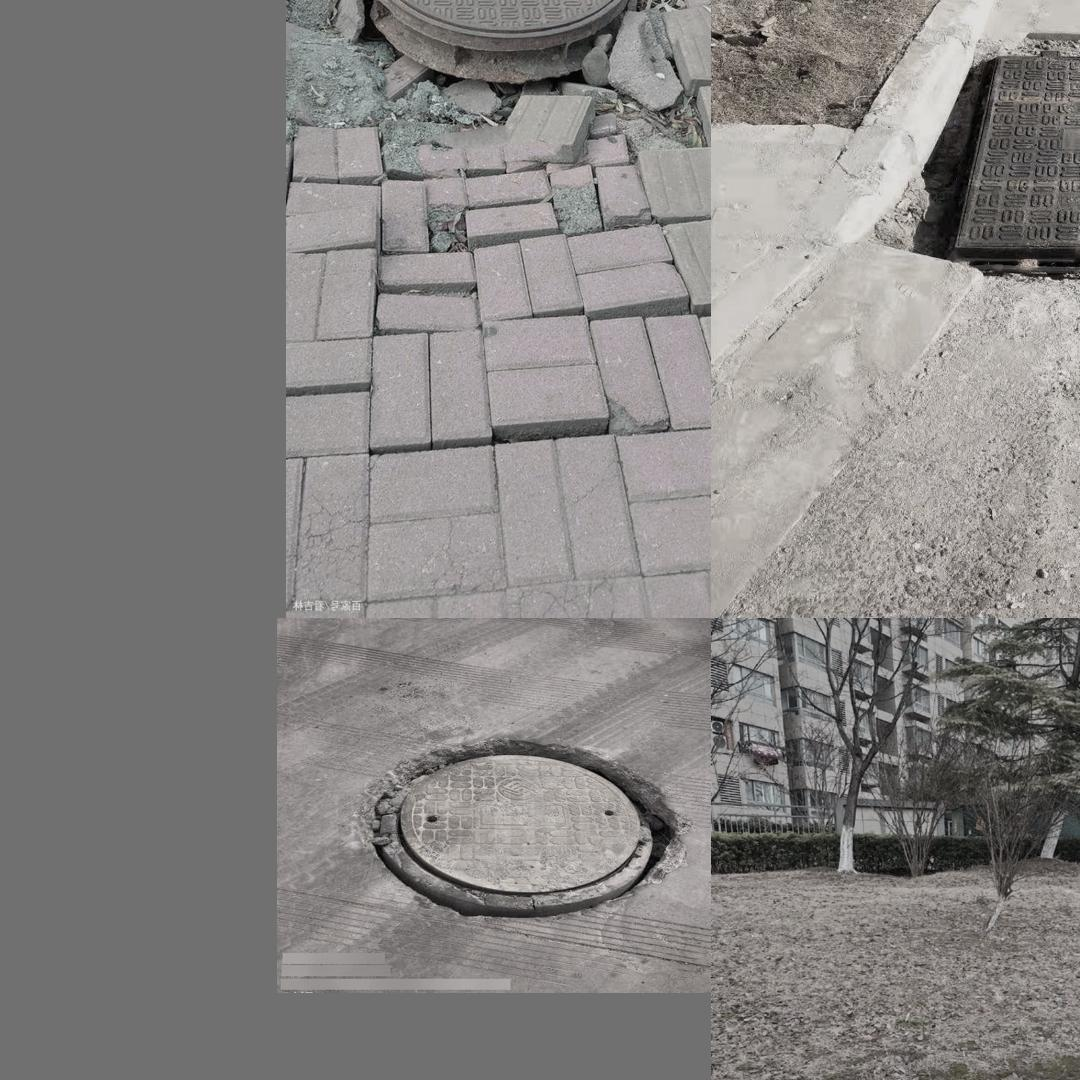circle: (291, 0, 701, 264), (364, 740, 674, 921), (907, 43, 1080, 292)
